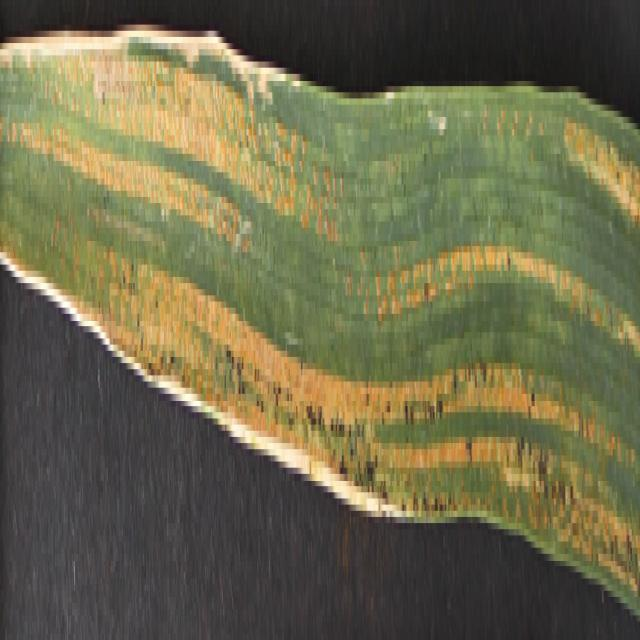leaf rust: (25, 6, 640, 579)
